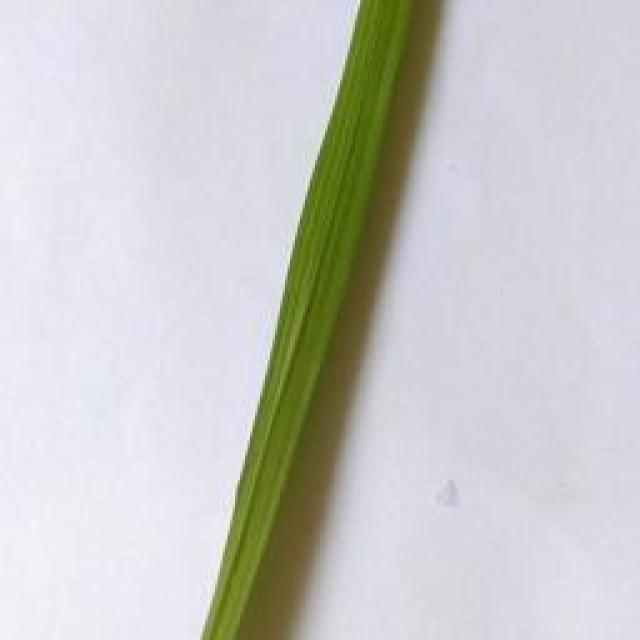Healthy-Plant: (202, 0, 419, 640)
